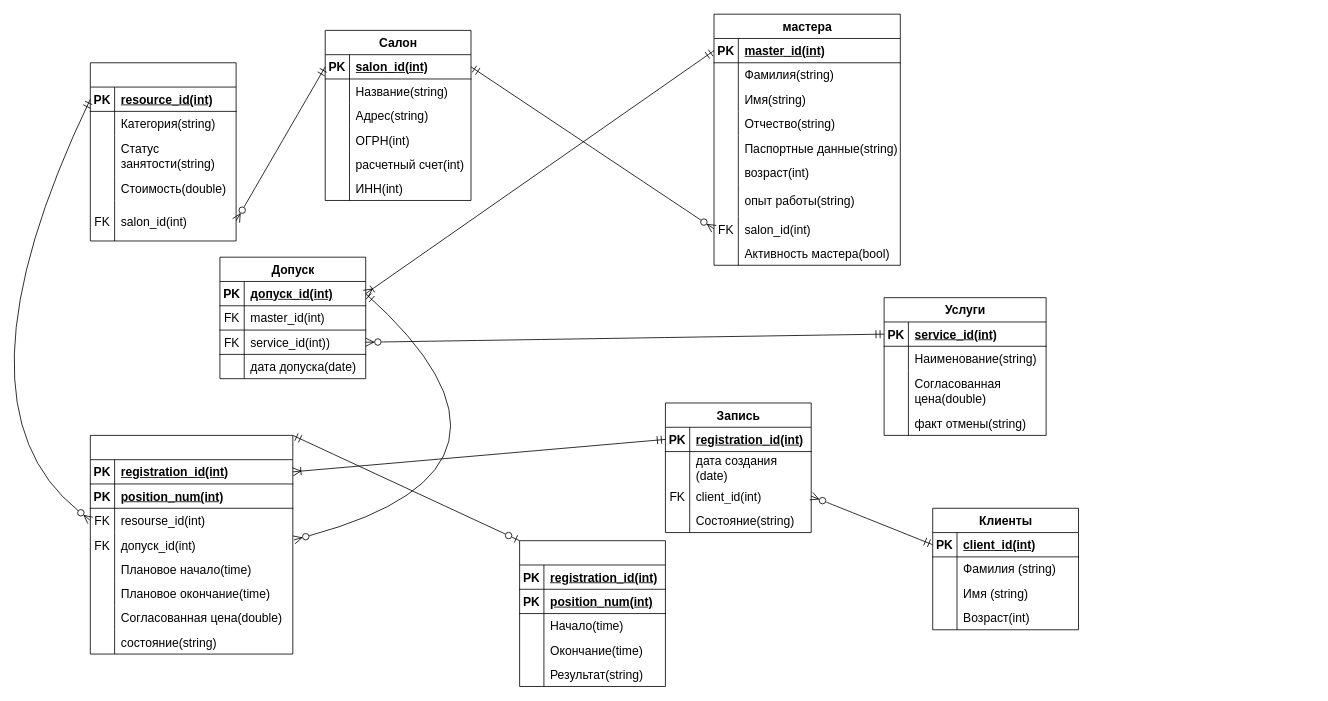
Some shapes in this 1328 by 701 pixel diagram are drawn without their labels. Here are the shapes that lost their labels. From the top down, the box of each, then its label:
(90, 62, 236, 241): Ресурсы салона
(90, 435, 293, 654): Позиция записи
(519, 540, 665, 686): Факт выполнения
